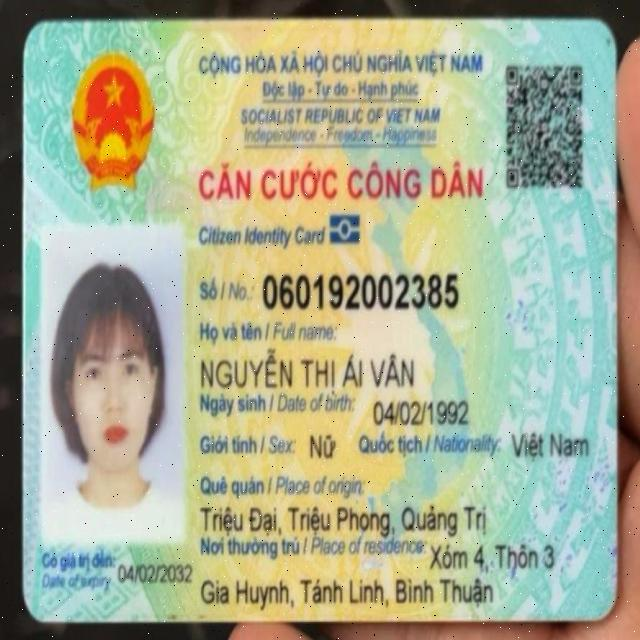current_place: (200, 569, 498, 615), (427, 537, 559, 579)
dob: (371, 395, 470, 426)
expire_date: (117, 562, 199, 586)
gender: (307, 428, 340, 463)
id: (260, 271, 461, 309)
name: (199, 345, 418, 397)
nationality: (508, 425, 592, 463)
origin_place: (198, 501, 491, 539)
